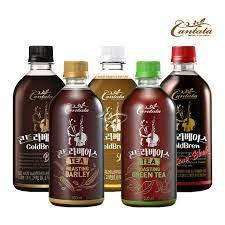contrabass_sweetblack: (164, 44, 213, 195)
